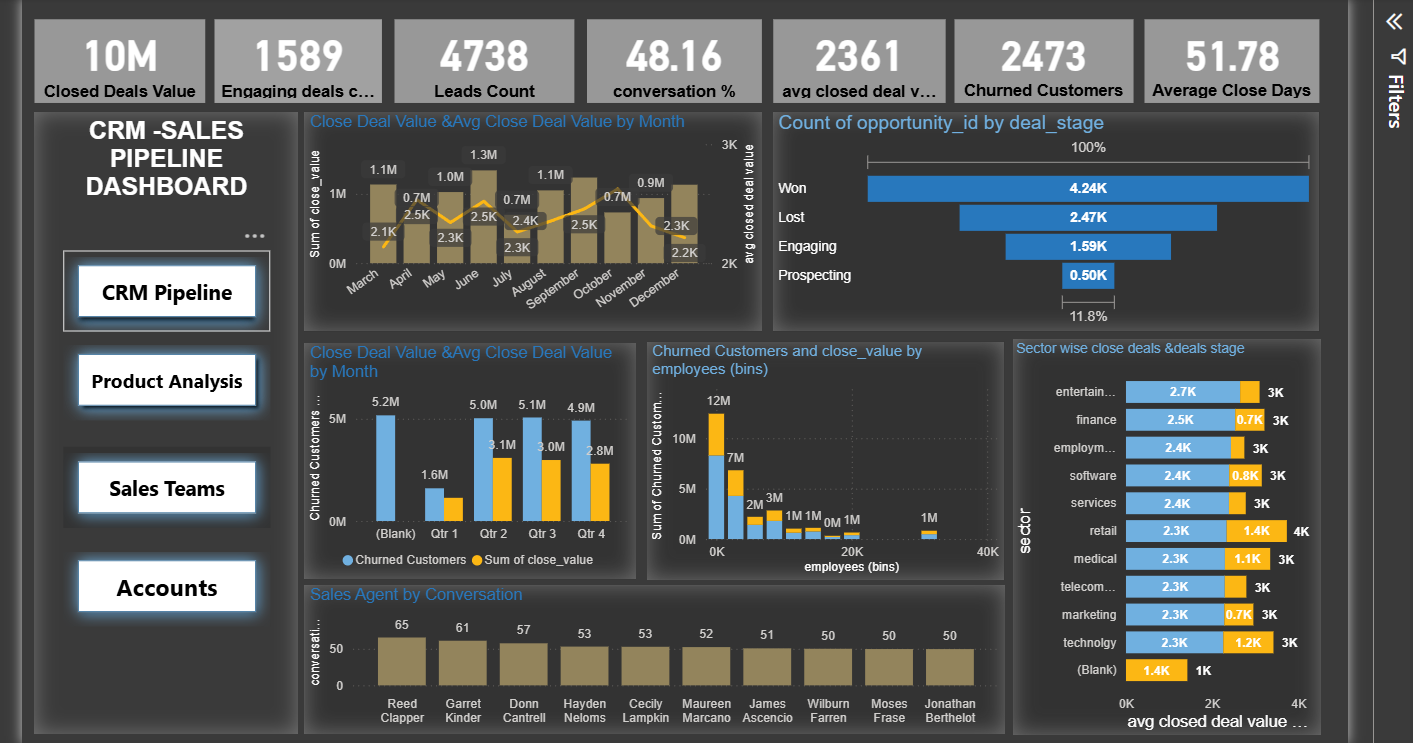

Layout of this report page (visuals, bound fields, positions):
{"tool":"powerbi","page":{"name":"CRM pipeline","canvas":[1280,720],"ordinal":0},"visuals":[{"type":"card","fields":{"Values":["Sum(sales_pipeline.close_value)"]},"box":[12.2,20.8,165.1,80.7],"z":0},{"type":"card","fields":{"Values":["CountNonNull(sales_pipeline.deal_stage)"]},"box":[185.9,20.8,161.4,80.7],"z":1000},{"type":"card","fields":{"Values":["CountNonNull(sales_pipeline.deal_stage)"]},"box":[359.5,20.8,173.6,80.7],"z":2000},{"type":"card","fields":{"Values":["sales_pipeline.avg closed deal value"]},"box":[725.1,20.8,166.3,80.7],"z":3000},{"type":"card","fields":{"Values":["sales_pipeline.conversation %"]},"box":[545.4,20.8,168.8,80.7],"z":4000},{"type":"card","fields":{"Values":["Avg(sales_pipeline.Churned Customers)"]},"box":[900,20.8,172.4,80.7],"z":5000},{"type":"card","fields":{"Values":["sales_pipeline.Average Close Days"]},"box":[1083.4,20.8,168.8,80.7],"z":6000},{"type":"lineClusteredColumnComboChart","title":"Close Deal Value &Avg Close Deal Value by Month","fields":{"Category":["sales_pipeline.close_date.Variation.Date Hierarchy.Month"],"Y":["Sum(sales_pipeline.close_value)"],"Y2":["sales_pipeline.avg closed deal value"]},"box":[272.7,109.8,441.6,212.3],"z":7000},{"type":"funnel","fields":{"Category":["sales_pipeline.deal_stage"],"Y":["CountNonNull(sales_pipeline.opportunity_id)"]},"box":[725.1,109.8,527.2,212.3],"z":8000},{"type":"clusteredColumnChart","title":"Close Deal Value &Avg Close Deal Value by Month","fields":{"Y":["Sum(sales_pipeline.Churned Customers)","Sum(sales_pipeline.close_value)"],"Category":["sales_pipeline.close_date.Variation.Date Hierarchy.Quarter"]},"box":[272.7,333,319.7,228],"z":9000},{"type":"columnChart","title":"Churned Customers and close_value by employees (bins)","fields":{"Category":["accounts (2).employees (bins)"],"Y":["Sum(sales_pipeline.Churned Customers)","Sum(sales_pipeline.close_value)"]},"box":[603.2,331.8,345,229.2],"z":10000},{"type":"clusteredColumnChart","title":"Sales Agent by Conversation","fields":{"Category":["sales_pipeline.sales_agent"],"Y":["sales_pipeline.conversation %"]},"box":[272.7,567,675.6,143.6],"z":11000},{"type":"barChart","title":"Sector wise close deals &deals stage","fields":{"Category":["accounts (2).sector"],"Y":["sales_pipeline.avg closed deal value","CountNonNull(sales_pipeline.deal_stage)"]},"box":[956.7,329.4,296.8,381.2],"z":12000},{"type":"textbox","box":[12.1,109.8,254.6,600.8],"z":13000},{"type":"shape","box":[39.8,243.7,200.3,78.4],"z":14000},{"type":"shape","box":[39.8,329.4,200.3,78.4],"z":15000},{"type":"shape","box":[39.8,433.1,200.3,78.4],"z":16000},{"type":"shape","box":[39.8,528.4,200.3,78.4],"z":17000}]}

Visuals, with their boxes on the page's 1280x720 design canvas (x1, y1, x2, y2). These are canvas units, not pixel positions in the 1413x743 screenshot, which may show the page scaled, cropped or inside an application window:
card - Sum(sales_pipeline.close_value): bbox(12, 21, 177, 102)
card - CountNonNull(sales_pipeline.deal_stage): bbox(186, 21, 347, 102)
card - CountNonNull(sales_pipeline.deal_stage): bbox(360, 21, 533, 102)
card - sales_pipeline.avg closed deal value: bbox(725, 21, 891, 102)
card - sales_pipeline.conversation %: bbox(545, 21, 714, 102)
card - Avg(sales_pipeline.Churned Customers): bbox(900, 21, 1072, 102)
card - sales_pipeline.Average Close Days: bbox(1083, 21, 1252, 102)
"Close Deal Value &Avg Close Deal Value by Month" lineClusteredColumnComboChart: bbox(273, 110, 714, 322)
funnel - sales_pipeline.deal_stage x CountNonNull(sales_pipeline.opportunity_id): bbox(725, 110, 1252, 322)
"Close Deal Value &Avg Close Deal Value by Month" clusteredColumnChart: bbox(273, 333, 592, 561)
"Churned Customers and close_value by employees (bins)" columnChart: bbox(603, 332, 948, 561)
"Sales Agent by Conversation" clusteredColumnChart: bbox(273, 567, 948, 711)
"Sector wise close deals &deals stage" barChart: bbox(957, 329, 1254, 711)
textbox: bbox(12, 110, 267, 711)
shape: bbox(40, 244, 240, 322)
shape: bbox(40, 329, 240, 408)
shape: bbox(40, 433, 240, 512)
shape: bbox(40, 528, 240, 607)
